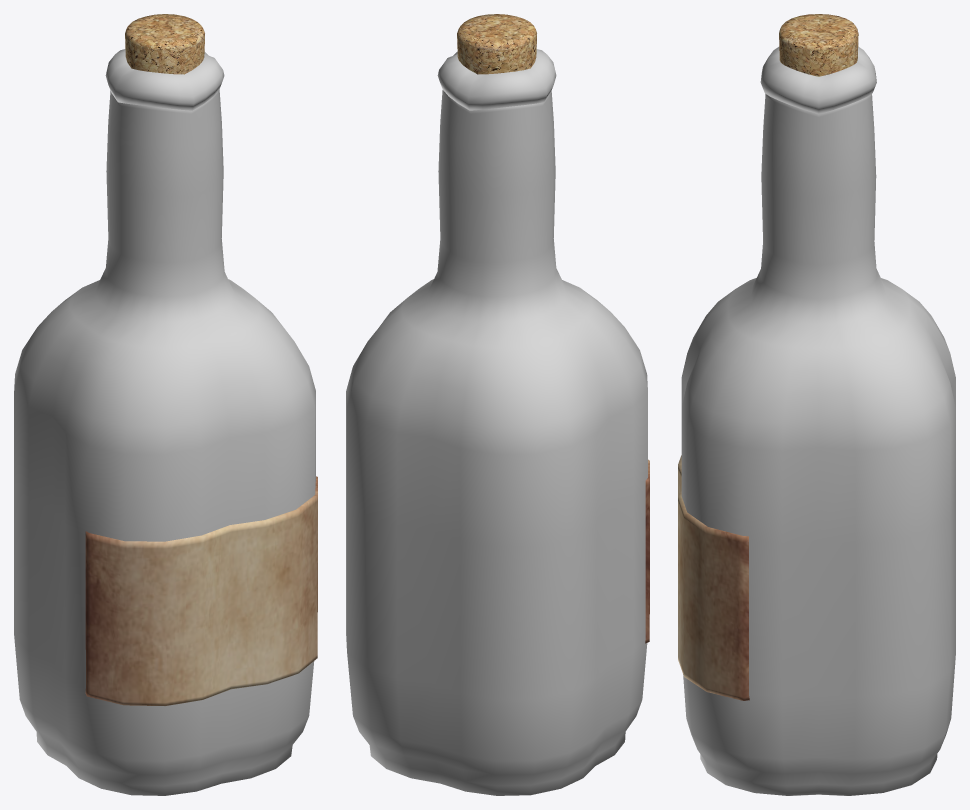
File: Bottle3.fbx
3 renders of one model, left to right at view 1: azimuth 30°, elevation 25°; view 2: azimuth 150°, elevation 25°; view 3: azimuth 270°, elevation 25°, orthographic.
Visible parts, largest first — view 1: Bottle_LOD0, Cork; view 2: Bottle_LOD0, Cork; view 3: Bottle_LOD0, Cork.
Boxes of the visible parts, x1,y1,x2,y2 form: Bottle_LOD0: (14, 49, 317, 795); Cork: (125, 14, 204, 74); Bottle_LOD0: (346, 49, 649, 795); Cork: (457, 14, 536, 74); Bottle_LOD0: (678, 46, 955, 795); Cork: (779, 14, 858, 76).
Size of what is drawn, in the model's own units: 32.5 by 94.26 by 32.92.
